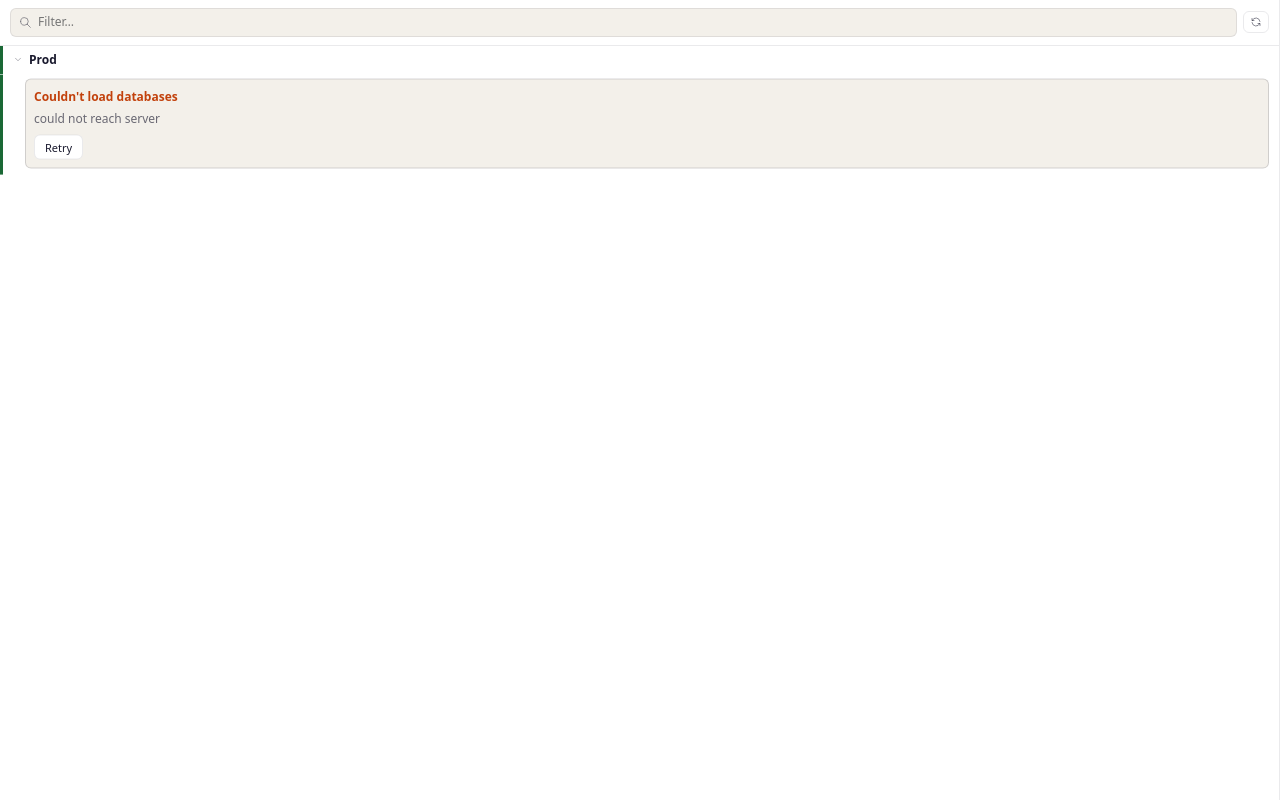
Test case: DbCollectionNavigator — render › renders an error card with Retry when listDatabases fails
Expected: the text "could not reach server" is shown, x1=34 y1=110 x2=160 y2=127
Click the button "Retry": {"x": 59, "y": 147} x1=34 y1=134 x2=83 y2=159
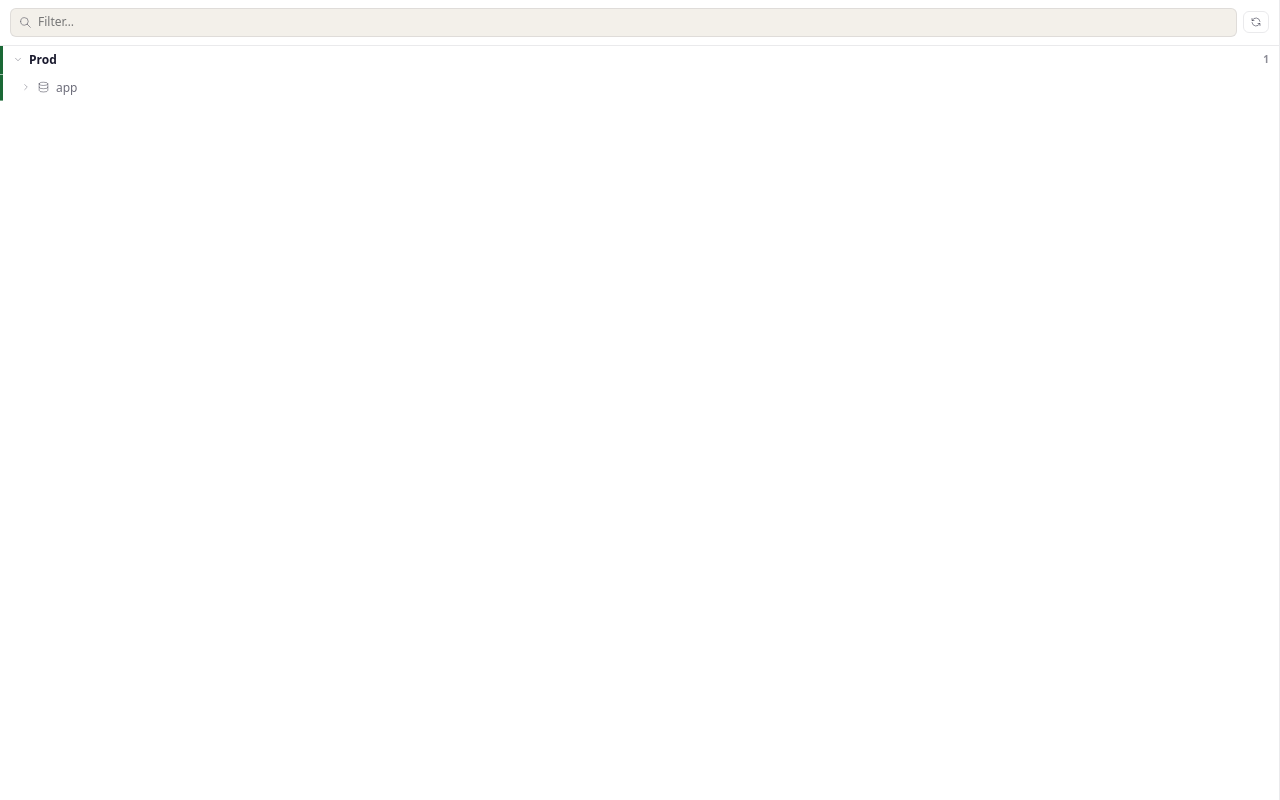
Result: the text "could not reach server" is gone
Result: the text "app" is shown at x1=56 y1=78 x2=78 y2=95
